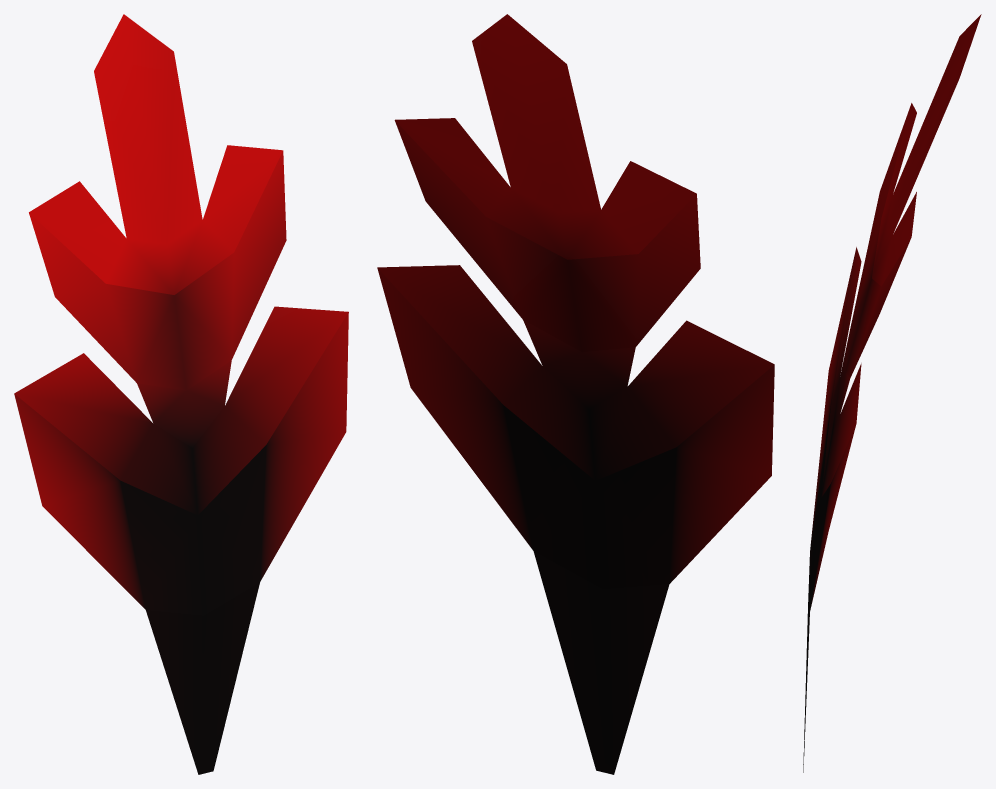
File: SM_Fern_05_LOD1.fbx
The picture shows the model from 3 angles, left to right: view 1: azimuth 30°, elevation 25°; view 2: azimuth 150°, elevation 25°; view 3: azimuth 270°, elevation 25°; orthographic projection. The views are drawn at different scales.
Parts seen in each view (by area): view 1: Fern_05_LOD1; view 2: Fern_05_LOD1; view 3: Fern_05_LOD1.
Part boxes in pixels (left/top/right/bottom): Fern_05_LOD1: left=14, top=14, right=348, bottom=774; Fern_05_LOD1: left=377, top=14, right=774, bottom=774; Fern_05_LOD1: left=803, top=14, right=981, bottom=772.
Size of the model in its own units: 44.99 by 89.76 by 19.15.
